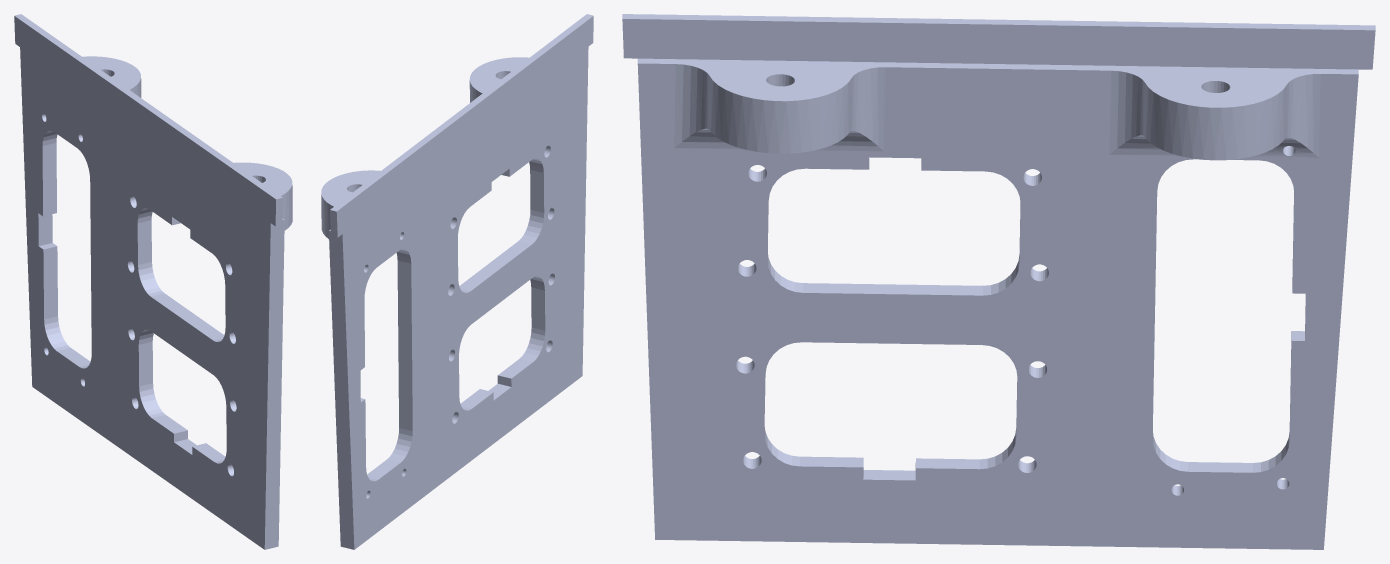
The model's file is VC_Connector_Wall.glb.
3 views of the same model, side by side, from view 1: azimuth 30°, elevation 25°; view 2: azimuth 150°, elevation 25°; view 3: azimuth 270°, elevation 25° (orthographic). The views are drawn at different scales.
Visible parts, largest first — view 1: world; view 2: world; view 3: world.
Boxes of the visible parts, x1,y1,x2,y2 form: world: [14, 14, 292, 549]; world: [321, 14, 593, 549]; world: [622, 14, 1375, 549].
Size of the model in its own units: 18.5 by 100 by 130.
